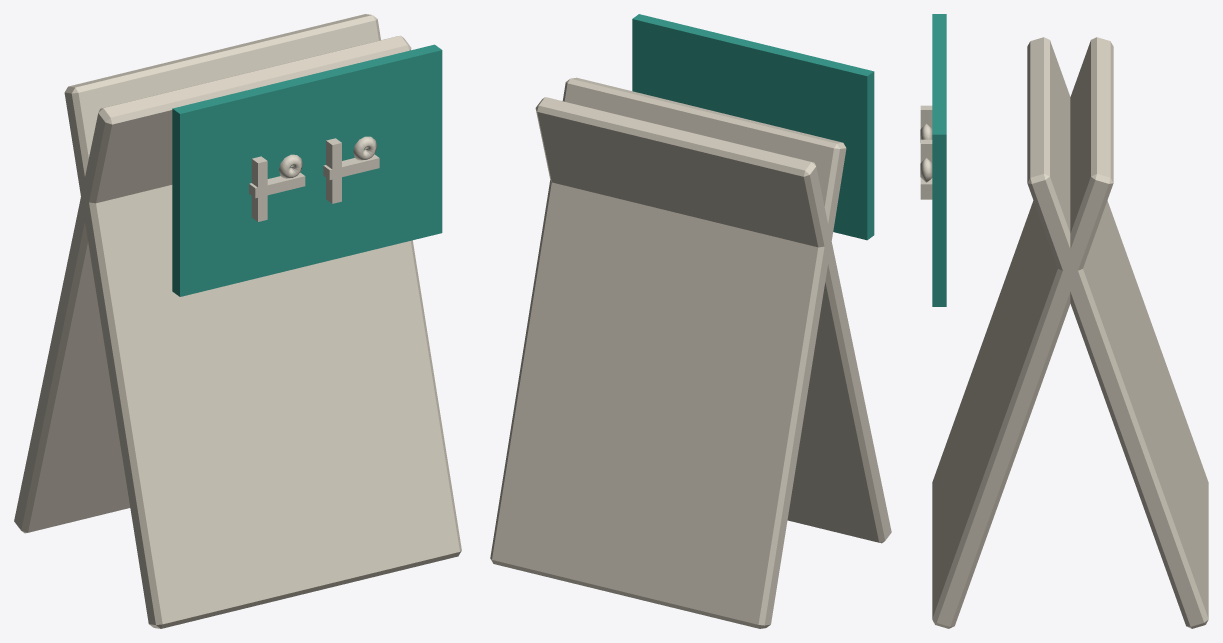
Rendered from decor_5.fbx.
The picture shows the model from 3 angles, left to right: view 1: azimuth 30°, elevation 25°; view 2: azimuth 150°, elevation 25°; view 3: azimuth 270°, elevation 25°; orthographic projection. The views are drawn at different scales.
Visible parts, largest first — view 1: decor_5; view 2: decor_5; view 3: decor_5.
Part boxes in pixels (box(x1,y1,x2,y2)): decor_5: box(14, 14, 461, 628); decor_5: box(490, 14, 891, 628); decor_5: box(920, 14, 1208, 628).
Size of the model in its own units: 0.7 by 1.13 by 0.6063.
